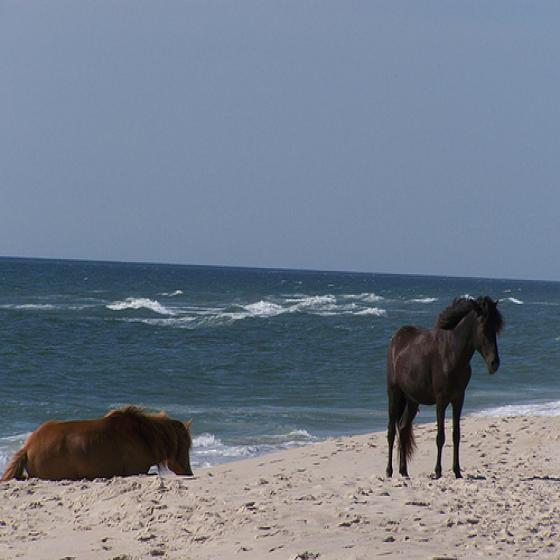horse: (386, 296, 503, 478), (2, 410, 195, 479)
